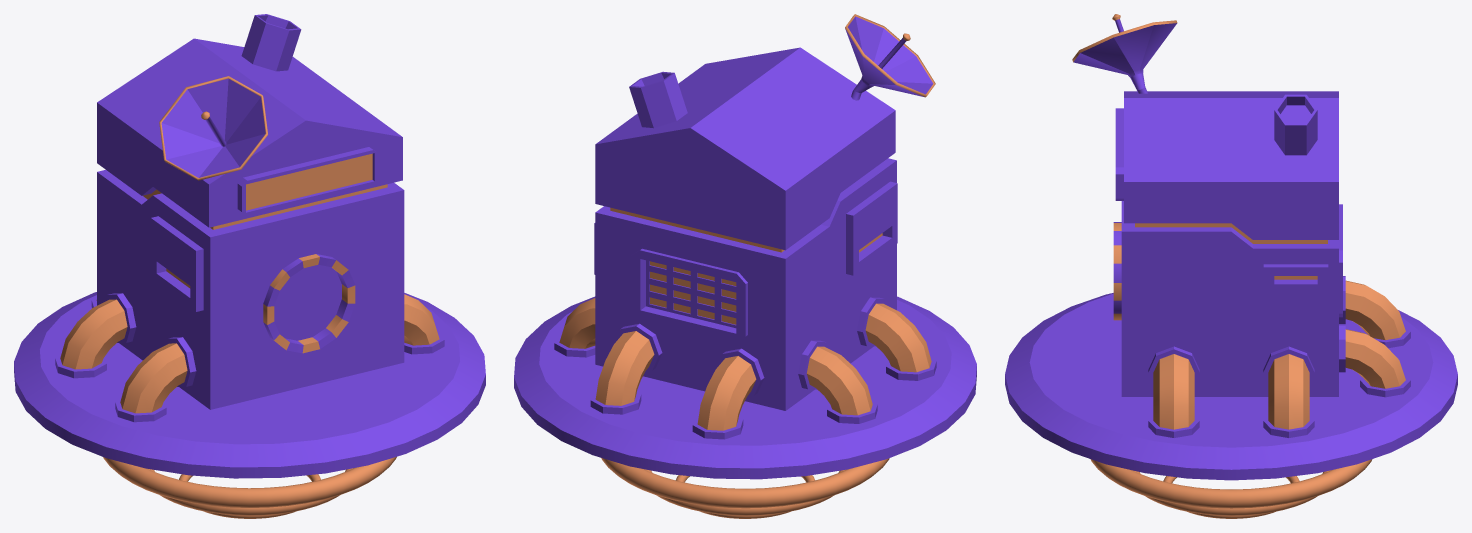
File: Sherman's House FBX.fbx
3 renders of one model, left to right at view 1: azimuth 30°, elevation 25°; view 2: azimuth 150°, elevation 25°; view 3: azimuth 270°, elevation 25°, orthographic. The views are drawn at different scales.
Visible parts, largest first — view 1: House Body; view 2: House Body; view 3: House Body.
Part boxes in pixels (x1,y1,x2,y2): House Body: (14,14,485,518); House Body: (514,14,976,518); House Body: (1005,14,1457,518).
Size of the model in its own units: 200 by 214 by 200.
